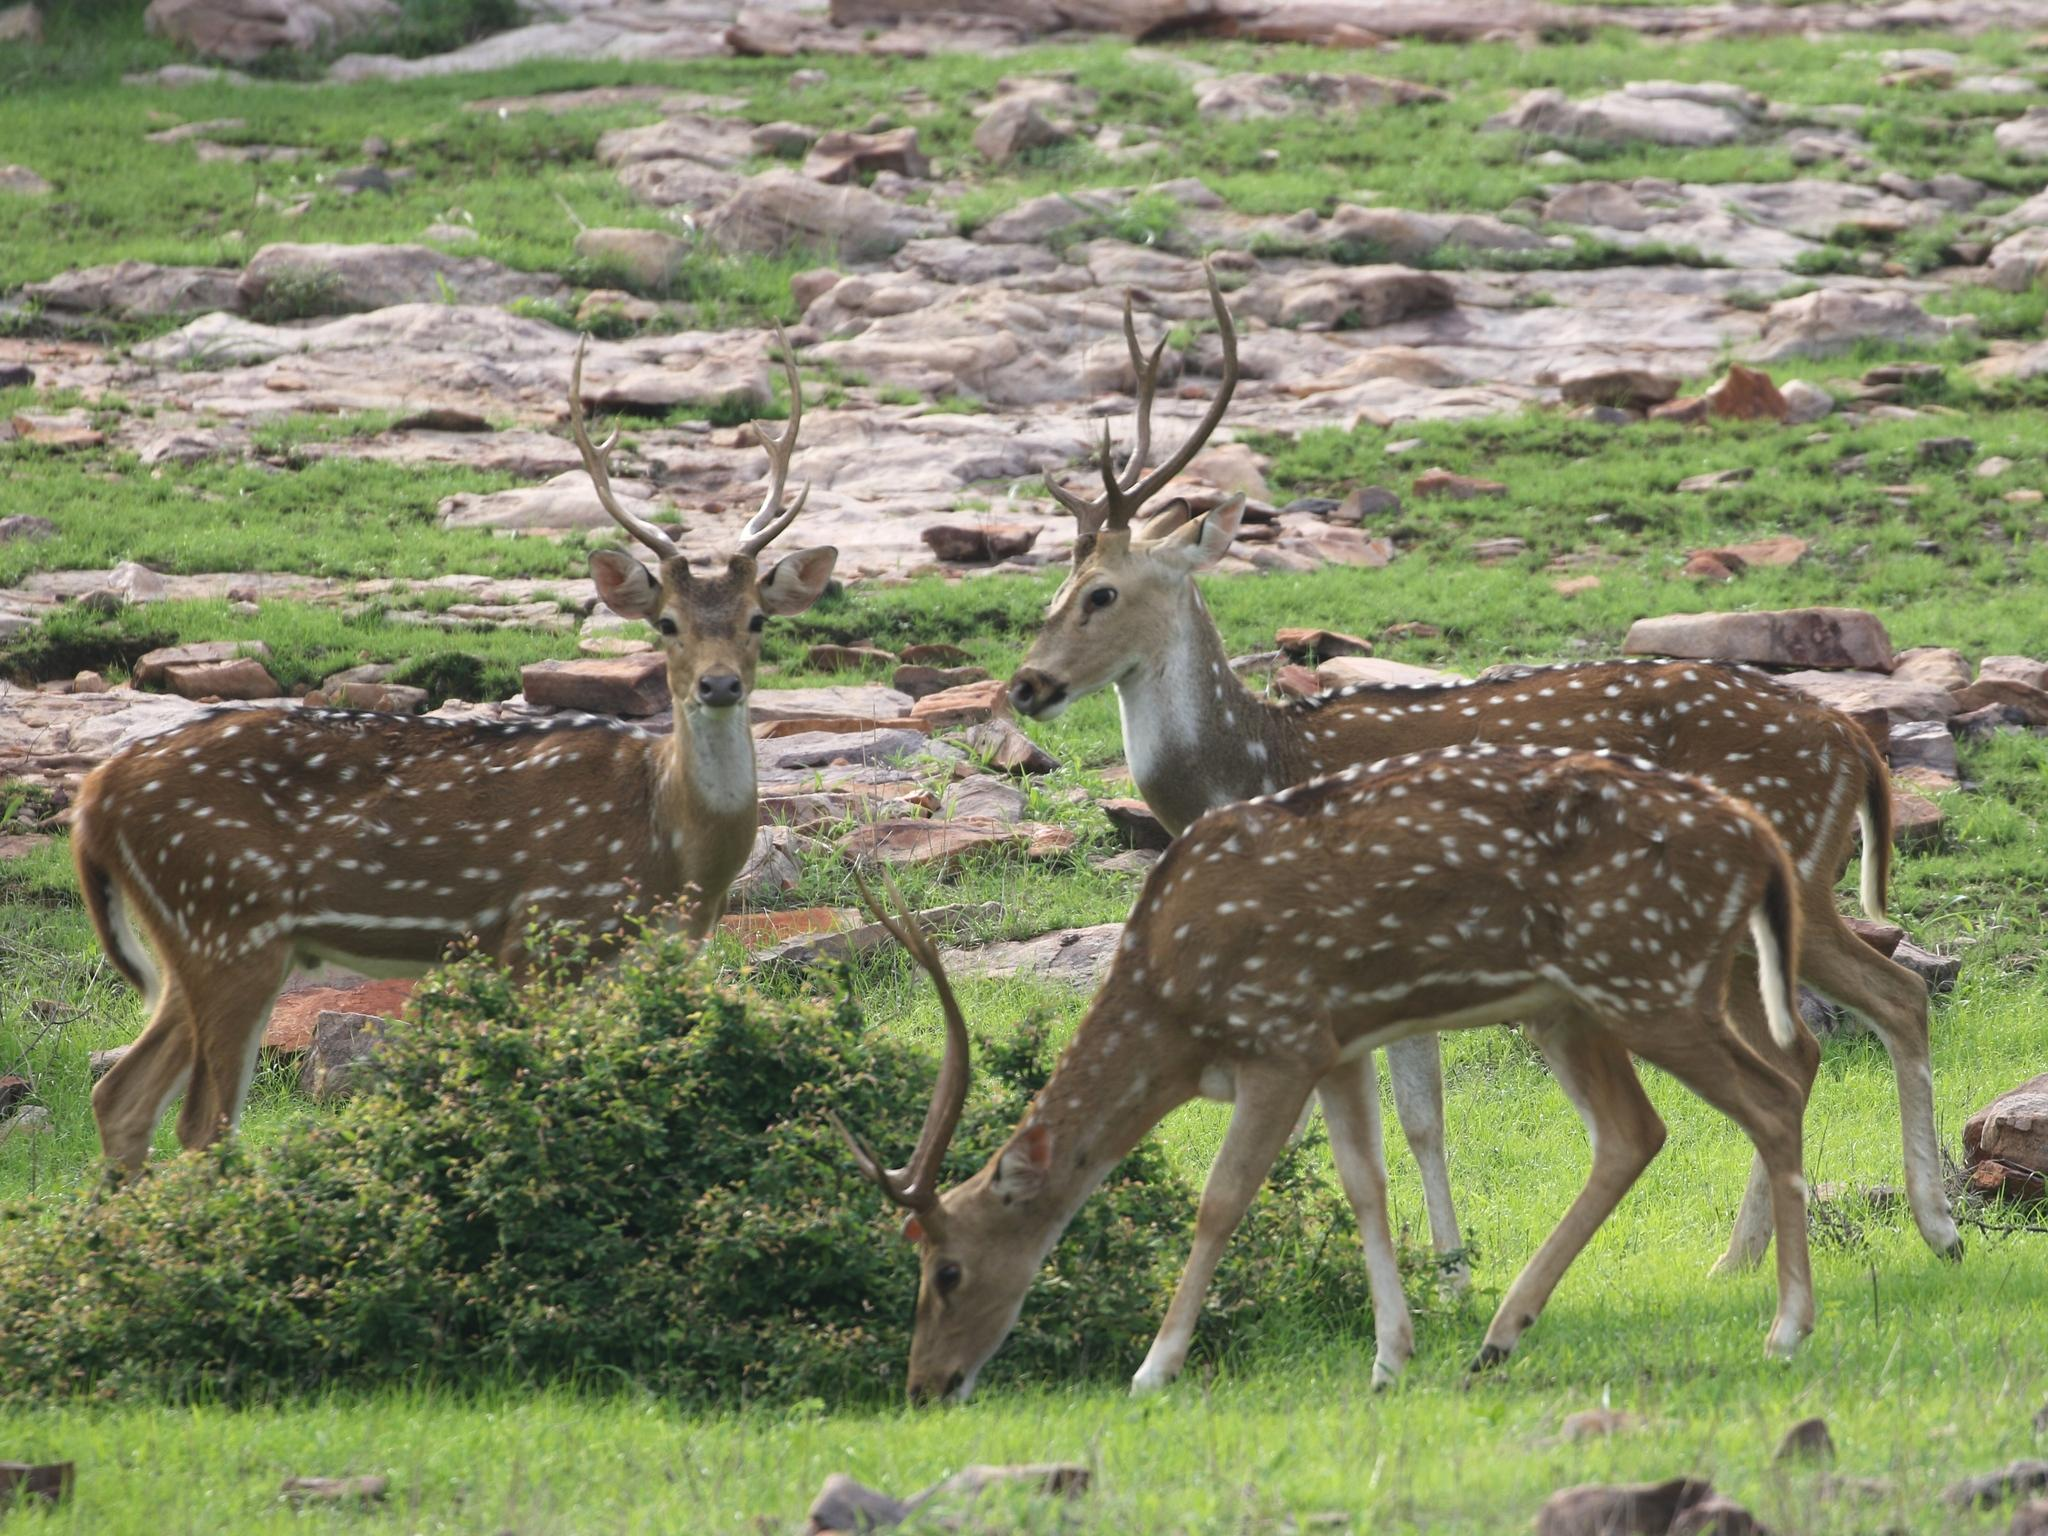Deer: (1006, 263, 1961, 1258), (73, 331, 837, 1171), (848, 745, 1819, 1400)
